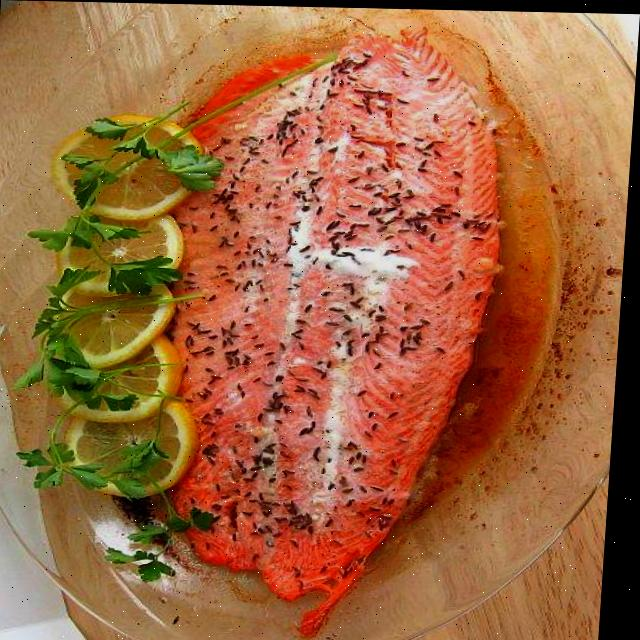熟制海鲜: (0, 24, 639, 633)
